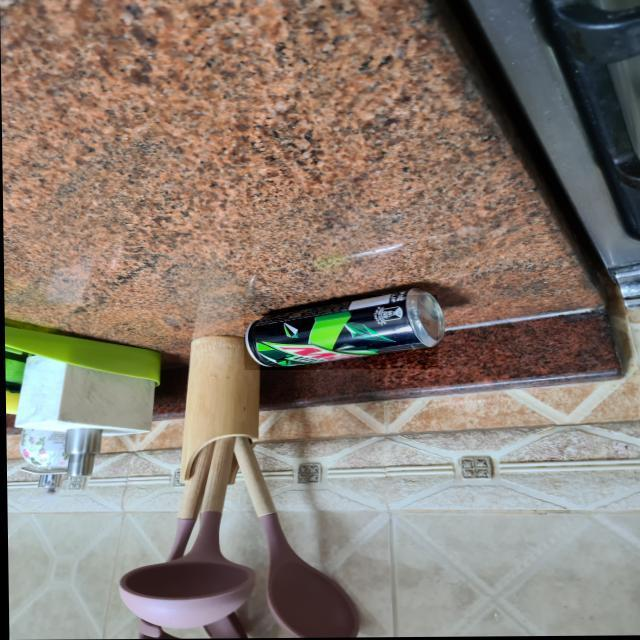trash: (249, 285, 439, 375)
